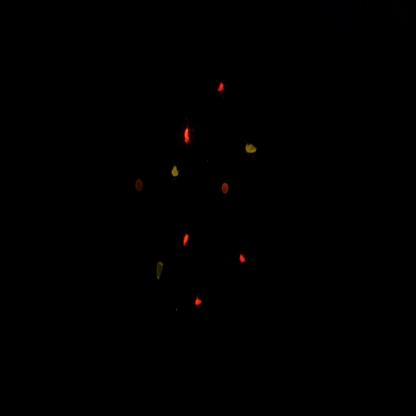PET: (186, 286, 208, 325), (238, 243, 249, 275)
PP: (244, 136, 263, 164), (156, 254, 168, 290), (169, 159, 183, 186)
PS: (134, 169, 149, 203), (219, 176, 235, 205)
PVC: (179, 226, 196, 257), (179, 123, 196, 150), (215, 77, 228, 101)
